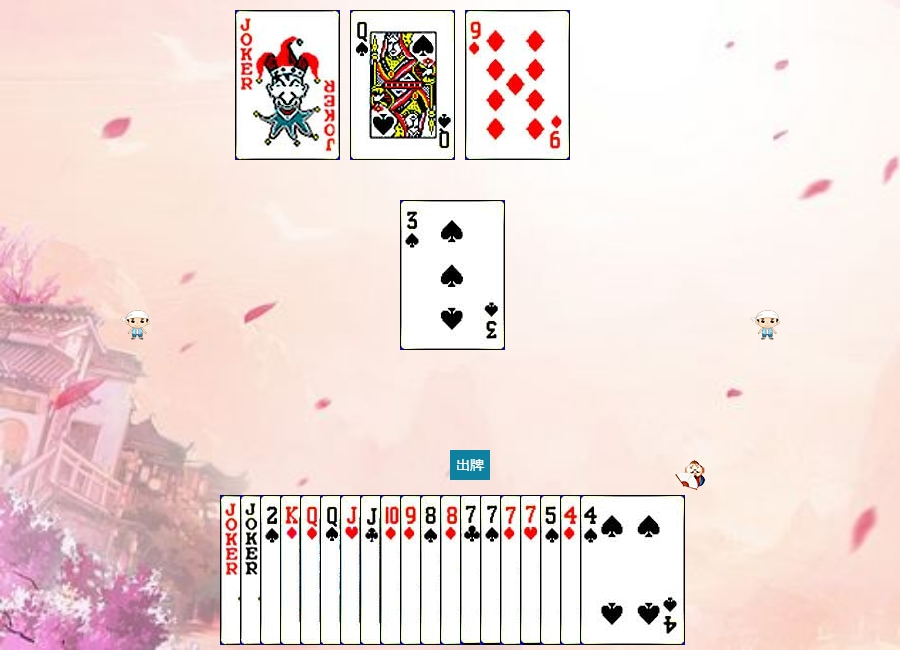10~1: (380, 495, 485, 645)
11~2: (360, 495, 465, 645)
11~3: (340, 495, 445, 645)
12~1: (300, 495, 405, 645)
12~4: (350, 10, 455, 160), (320, 495, 425, 645)
13~1: (280, 495, 385, 645)
15~4: (260, 495, 365, 645)
17~3: (240, 495, 345, 645)
18~4: (235, 10, 340, 160), (220, 495, 325, 645)
3~4: (400, 200, 505, 350)
4~1: (560, 495, 665, 645)
4~4: (580, 495, 685, 645)
5~4: (540, 495, 645, 645)
7~1: (500, 495, 605, 645)
7~2: (460, 495, 565, 645)
7~3: (520, 495, 625, 645)
7~4: (480, 495, 585, 645)
8~1: (440, 495, 545, 645)
8~4: (420, 495, 525, 645)
9~1: (465, 10, 570, 160), (400, 495, 505, 645)
